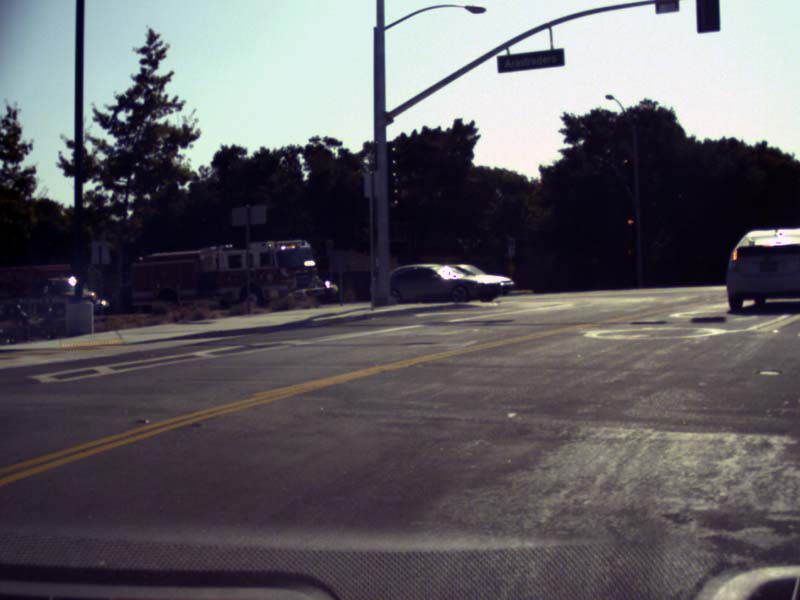Red: (626, 217, 634, 226)
